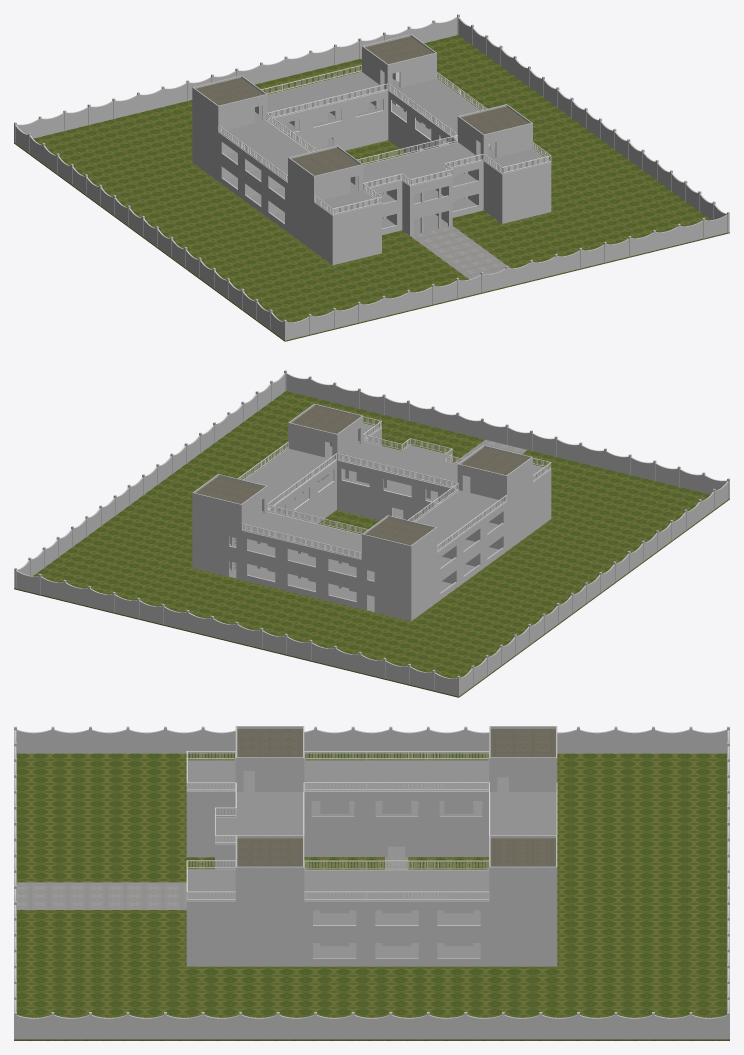
The model's file is yanderesimulatormap.glb.
The picture shows the model from 3 angles, top to bottom: view 1: azimuth 30°, elevation 25°; view 2: azimuth 150°, elevation 25°; view 3: azimuth 270°, elevation 25°; orthographic projection. The views are drawn at different scales.
Parts seen in each view (by area): view 1: Body177, Body152, Body83, Body485, Body1, Body174, Body173, Body176, Body175, Body82, Body476, Body171 (+5 smaller); view 2: Body177, Body152, Body83, Body1, Body82, Body173, Body174, Body175, Body176, Body480, Body160, Body484 (+2 smaller); view 3: Body177, Body152, Body83, Body485, Body1, Body82, Body173, Body174, Body176, Body175, Body477, Body483 (+39 smaller).
Part boxes in pixels (x1,y1,x2,y2): Body177: (14, 35, 729, 341); Body152: (192, 34, 551, 265); Body83: (219, 70, 550, 215); Body485: (410, 225, 510, 279); Body1: (226, 99, 476, 203); Body174: (461, 106, 529, 134); Body173: (292, 148, 359, 175); Body176: (365, 36, 433, 64); Body175: (196, 77, 263, 105); Body82: (226, 138, 476, 234); Body476: (363, 154, 483, 188); Body171: (345, 140, 406, 164); Body177: (14, 391, 729, 697); Body152: (192, 403, 551, 621); Body83: (242, 423, 550, 559); Body1: (229, 469, 498, 580); Body82: (229, 508, 498, 612); Body173: (461, 447, 529, 475); Body174: (292, 406, 359, 433); Body175: (365, 517, 433, 545); Body176: (196, 476, 263, 503); Body480: (241, 523, 361, 559); Body160: (318, 510, 379, 534); Body484: (337, 453, 457, 488); Body177: (14, 753, 729, 1040); Body152: (186, 726, 557, 966); Body83: (187, 760, 556, 900); Body485: (17, 882, 186, 909); Body1: (311, 801, 482, 924); Body82: (313, 846, 480, 957); Body173: (237, 729, 302, 757); Body174: (237, 838, 302, 866); Body176: (490, 838, 555, 866); Body175: (490, 729, 555, 757); Body477: (304, 891, 489, 901); Body483: (304, 782, 489, 791).
Size of the model in its own units: 80.51 by 13.19 by 84.93.
7 materials, 3 textured.
